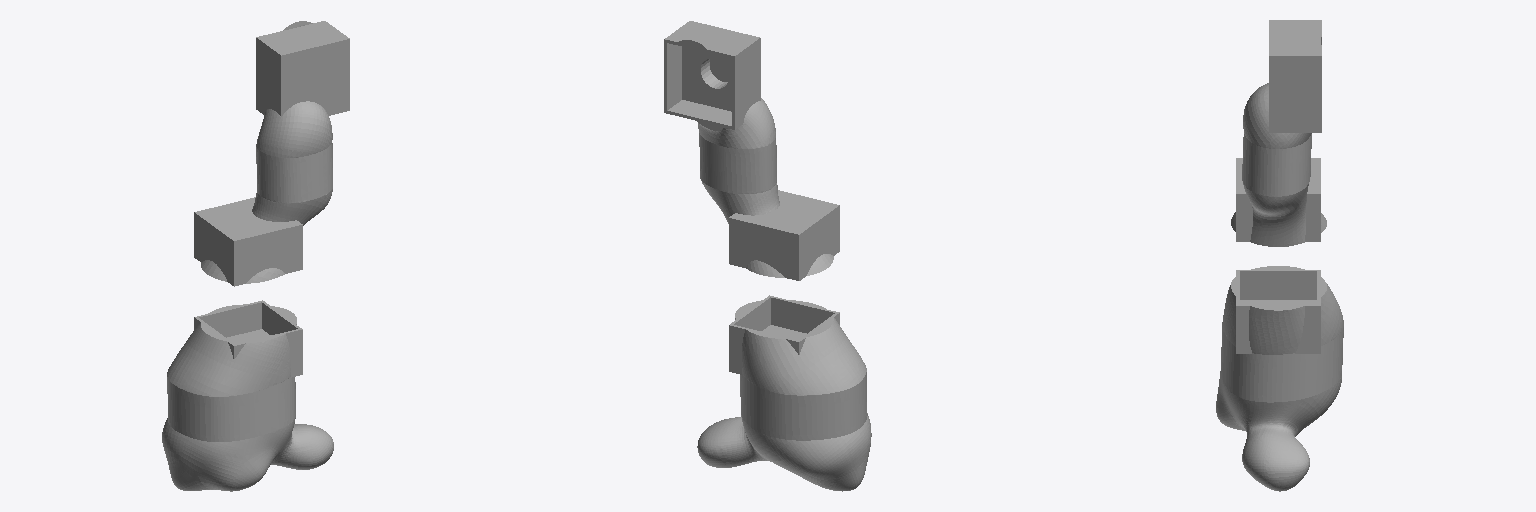
robot.urdf — FrogBot5_top-FrogBot5-y-6_bottom-FrogBot5-y-6:
<?xml version="1.0" ?>
<robot name="FrogBot5_top-FrogBot5-y-6_bottom-FrogBot5-y-6">

<material name="pla_5_percent_infill">
  <color rgba="0.700 0.700 0.700 1.000"/>
</material>

<link name="base_link">
  <inertial>
    <origin xyz="0 0 0" rpy="0 0 0"/>
    <mass value="1.4805118043364613"/>
    <inertia ixx="0.00519778244400068" iyy="0.011185972187213383" izz="0.012581059264896973" ixy="-0.0002102027550041139" iyz="-1.09064860282594e-05" ixz="-0.0008439426245005397"/>
  </inertial>
  <visual>
    <origin xyz="0 0 0" rpy="0 0 0"/>
    <geometry>
      <mesh filename="simple_meshes/base_link.stl" scale="0.001 0.001 0.001"/>
    </geometry>
    <material name="pla_5_percent_infill"/>
  </visual>
  <collision>
    <origin xyz="0 0 0" rpy="0 0 0"/>
    <geometry>
      <mesh filename="simple_meshes/base_link.stl" scale="0.001 0.001 0.001"/>
    </geometry>
  </collision>
</link>

<link name="body_1_0_1">
  <inertial>
    <origin xyz="-0.05492 -0.106321 -0.011198" rpy="0 0 0"/>
    <mass value="0.03884983260969606"/>
    <inertia ixx="4.170578301745194e-05" iyy="4.4962683225508566e-05" izz="1.2590825205717926e-05" ixy="-1.0565215714266035e-07" iyz="-2.019539742988309e-06" ixz="-1.2107108073044245e-06"/>
  </inertial>
  <visual>
    <origin xyz="-0.05492 -0.106321 -0.011198" rpy="0 0 0"/>
    <geometry>
      <mesh filename="simple_meshes/body_1_0_1.stl" scale="0.001 0.001 0.001"/>
    </geometry>
    <material name="pla_5_percent_infill"/>
  </visual>
  <collision>
    <origin xyz="-0.05492 -0.106321 -0.011198" rpy="0 0 0"/>
    <geometry>
      <mesh filename="simple_meshes/body_1_0_1.stl" scale="0.001 0.001 0.001"/>
    </geometry>
  </collision>
</link>

<link name="body_1_1_1">
  <inertial>
    <origin xyz="0.058377 -0.106321 -0.025493" rpy="0 0 0"/>
    <mass value="0.0640724490179146"/>
    <inertia ixx="7.964909327203029e-05" iyy="0.00010194311954723589" izz="4.02268873717351e-05" ixy="-2.1620908907479417e-06" iyz="-1.306376854506928e-06" ixz="-2.9478070887050846e-05"/>
  </inertial>
  <visual>
    <origin xyz="0.058377 -0.106321 -0.025493" rpy="0 0 0"/>
    <geometry>
      <mesh filename="simple_meshes/body_1_1_1.stl" scale="0.001 0.001 0.001"/>
    </geometry>
    <material name="pla_5_percent_infill"/>
  </visual>
  <collision>
    <origin xyz="0.058377 -0.106321 -0.025493" rpy="0 0 0"/>
    <geometry>
      <mesh filename="simple_meshes/body_1_1_1.stl" scale="0.001 0.001 0.001"/>
    </geometry>
  </collision>
</link>

<link name="body_1_2_1">
  <inertial>
    <origin xyz="-0.053934 0.106321 -0.032331" rpy="0 0 0"/>
    <mass value="0.05563842877598316"/>
    <inertia ixx="7.497002196064396e-05" iyy="8.095586345666046e-05" izz="1.909925730497514e-05" ixy="1.8461053509044416e-07" iyz="-1.5884370912450465e-07" ixz="8.151191103132949e-06"/>
  </inertial>
  <visual>
    <origin xyz="-0.053934 0.106321 -0.032331" rpy="0 0 0"/>
    <geometry>
      <mesh filename="simple_meshes/body_1_2_1.stl" scale="0.001 0.001 0.001"/>
    </geometry>
    <material name="pla_5_percent_infill"/>
  </visual>
  <collision>
    <origin xyz="-0.053934 0.106321 -0.032331" rpy="0 0 0"/>
    <geometry>
      <mesh filename="simple_meshes/body_1_2_1.stl" scale="0.001 0.001 0.001"/>
    </geometry>
  </collision>
</link>

<link name="body_1_3_1">
  <inertial>
    <origin xyz="0.057483 0.106321 -0.032919" rpy="0 0 0"/>
    <mass value="0.06200796672995031"/>
    <inertia ixx="8.203586392532521e-05" iyy="9.934747130677514e-05" izz="3.2338545722542704e-05" ixy="-5.828327555165106e-07" iyz="-2.3936281243236066e-06" ixz="-2.5396781439897788e-05"/>
  </inertial>
  <visual>
    <origin xyz="0.057483 0.106321 -0.032919" rpy="0 0 0"/>
    <geometry>
      <mesh filename="simple_meshes/body_1_3_1.stl" scale="0.001 0.001 0.001"/>
    </geometry>
    <material name="pla_5_percent_infill"/>
  </visual>
  <collision>
    <origin xyz="0.057483 0.106321 -0.032919" rpy="0 0 0"/>
    <geometry>
      <mesh filename="simple_meshes/body_1_3_1.stl" scale="0.001 0.001 0.001"/>
    </geometry>
  </collision>
</link>

<link name="body_2_0_1">
  <inertial>
    <origin xyz="-0.051784 -0.143449 0.100454" rpy="0 0 0"/>
    <mass value="0.08983033453324192"/>
    <inertia ixx="0.0001129028371719739" iyy="0.00012016448528999598" izz="9.669178012234768e-05" ixy="-4.565669640618016e-06" iyz="4.704396012114066e-06" ixz="-3.4372645983795714e-06"/>
  </inertial>
  <visual>
    <origin xyz="-0.051784 -0.143449 0.100454" rpy="0 0 0"/>
    <geometry>
      <mesh filename="simple_meshes/body_2_0_1.stl" scale="0.001 0.001 0.001"/>
    </geometry>
    <material name="pla_5_percent_infill"/>
  </visual>
  <collision>
    <origin xyz="-0.051784 -0.143449 0.100454" rpy="0 0 0"/>
    <geometry>
      <mesh filename="simple_meshes/body_2_0_1.stl" scale="0.001 0.001 0.001"/>
    </geometry>
  </collision>
</link>

<link name="body_2_1_1">
  <inertial>
    <origin xyz="0.108798 -0.147527 0.100454" rpy="0 0 0"/>
    <mass value="0.12520642099837706"/>
    <inertia ixx="9.813211103022572e-05" iyy="0.00012209439671824213" izz="9.724009692442786e-05" ixy="-2.3610485365048797e-06" iyz="3.873623748039054e-07" ixz="-8.361973607394491e-07"/>
  </inertial>
  <visual>
    <origin xyz="0.108798 -0.147527 0.100454" rpy="0 0 0"/>
    <geometry>
      <mesh filename="simple_meshes/body_2_1_1.stl" scale="0.001 0.001 0.001"/>
    </geometry>
    <material name="pla_5_percent_infill"/>
  </visual>
  <collision>
    <origin xyz="0.108798 -0.147527 0.100454" rpy="0 0 0"/>
    <geometry>
      <mesh filename="simple_meshes/body_2_1_1.stl" scale="0.001 0.001 0.001"/>
    </geometry>
  </collision>
</link>

<link name="body_2_2_1">
  <inertial>
    <origin xyz="-0.065031 0.147225 0.100454" rpy="0 0 0"/>
    <mass value="0.08944098053403188"/>
    <inertia ixx="0.00011087282553854522" iyy="0.00010926394341471794" izz="8.960666541283323e-05" ixy="6.04525247909968e-06" iyz="-3.7621290671315845e-06" ixz="-6.3944899855697575e-06"/>
  </inertial>
  <visual>
    <origin xyz="-0.065031 0.147225 0.100454" rpy="0 0 0"/>
    <geometry>
      <mesh filename="simple_meshes/body_2_2_1.stl" scale="0.001 0.001 0.001"/>
    </geometry>
    <material name="pla_5_percent_infill"/>
  </visual>
  <collision>
    <origin xyz="-0.065031 0.147225 0.100454" rpy="0 0 0"/>
    <geometry>
      <mesh filename="simple_meshes/body_2_2_1.stl" scale="0.001 0.001 0.001"/>
    </geometry>
  </collision>
</link>

<link name="body_2_3_1">
  <inertial>
    <origin xyz="0.101339 0.151086 0.100454" rpy="0 0 0"/>
    <mass value="0.13516619575576871"/>
    <inertia ixx="0.00012081311612868045" iyy="0.00015451642748556295" izz="0.0001090692719264751" ixy="1.1902656581294808e-06" iyz="-4.996255348883698e-06" ixz="6.998411627305405e-06"/>
  </inertial>
  <visual>
    <origin xyz="0.101339 0.151086 0.100454" rpy="0 0 0"/>
    <geometry>
      <mesh filename="simple_meshes/body_2_3_1.stl" scale="0.001 0.001 0.001"/>
    </geometry>
    <material name="pla_5_percent_infill"/>
  </visual>
  <collision>
    <origin xyz="0.101339 0.151086 0.100454" rpy="0 0 0"/>
    <geometry>
      <mesh filename="simple_meshes/body_2_3_1.stl" scale="0.001 0.001 0.001"/>
    </geometry>
  </collision>
</link>

<joint name="joint_1_0" type="revolute">
  <origin xyz="0.05492 0.106321 0.011198" rpy="0 0 0"/>
  <parent link="base_link"/>
  <child link="body_1_0_1"/>
  <axis xyz="0.0 0.0 -1.0"/>
  <limit upper="1.2" lower="-1.2" effort="3.8" velocity="5.4"/>
</joint>
<transmission name="joint_1_0_tran">
  <type>transmission_interface/SimpleTransmission</type>
  <joint name="joint_1_0">
    <hardwareInterface>PositionJointInterface</hardwareInterface>
  </joint>
  <actuator name="joint_1_0_actr">
    <hardwareInterface>PositionJointInterface</hardwareInterface>
    <mechanicalReduction>1</mechanicalReduction>
  </actuator>
</transmission>

<joint name="joint_1_1" type="revolute">
  <origin xyz="-0.058377 0.106321 0.025493" rpy="0 0 0"/>
  <parent link="base_link"/>
  <child link="body_1_1_1"/>
  <axis xyz="0.0 0.0 -1.0"/>
  <limit upper="1.2" lower="-1.2" effort="3.8" velocity="5.4"/>
</joint>
<transmission name="joint_1_1_tran">
  <type>transmission_interface/SimpleTransmission</type>
  <joint name="joint_1_1">
    <hardwareInterface>PositionJointInterface</hardwareInterface>
  </joint>
  <actuator name="joint_1_1_actr">
    <hardwareInterface>PositionJointInterface</hardwareInterface>
    <mechanicalReduction>1</mechanicalReduction>
  </actuator>
</transmission>

<joint name="joint_1_2" type="revolute">
  <origin xyz="0.053934 -0.106321 0.032331" rpy="0 0 0"/>
  <parent link="base_link"/>
  <child link="body_1_2_1"/>
  <axis xyz="0.0 0.0 -1.0"/>
  <limit upper="1.2" lower="-1.2" effort="3.8" velocity="5.4"/>
</joint>
<transmission name="joint_1_2_tran">
  <type>transmission_interface/SimpleTransmission</type>
  <joint name="joint_1_2">
    <hardwareInterface>PositionJointInterface</hardwareInterface>
  </joint>
  <actuator name="joint_1_2_actr">
    <hardwareInterface>PositionJointInterface</hardwareInterface>
    <mechanicalReduction>1</mechanicalReduction>
  </actuator>
</transmission>

<joint name="joint_1_3" type="revolute">
  <origin xyz="-0.057483 -0.106321 0.032919" rpy="0 0 0"/>
  <parent link="base_link"/>
  <child link="body_1_3_1"/>
  <axis xyz="0.0 0.0 -1.0"/>
  <limit upper="1.2" lower="-1.2" effort="3.8" velocity="5.4"/>
</joint>
<transmission name="joint_1_3_tran">
  <type>transmission_interface/SimpleTransmission</type>
  <joint name="joint_1_3">
    <hardwareInterface>PositionJointInterface</hardwareInterface>
  </joint>
  <actuator name="joint_1_3_actr">
    <hardwareInterface>PositionJointInterface</hardwareInterface>
    <mechanicalReduction>1</mechanicalReduction>
  </actuator>
</transmission>

<joint name="joint_2_0" type="revolute">
  <origin xyz="-0.003136 0.037128 -0.111652" rpy="0 0 0"/>
  <parent link="body_1_0_1"/>
  <child link="body_2_0_1"/>
  <axis xyz="0.0 1.0 0.0"/>
  <limit upper="1.2" lower="-1.2" effort="3.8" velocity="5.4"/>
</joint>
<transmission name="joint_2_0_tran">
  <type>transmission_interface/SimpleTransmission</type>
  <joint name="joint_2_0">
    <hardwareInterface>PositionJointInterface</hardwareInterface>
  </joint>
  <actuator name="joint_2_0_actr">
    <hardwareInterface>PositionJointInterface</hardwareInterface>
    <mechanicalReduction>1</mechanicalReduction>
  </actuator>
</transmission>

<joint name="joint_2_1" type="revolute">
  <origin xyz="-0.050421 0.041206 -0.125947" rpy="0 0 0"/>
  <parent link="body_1_1_1"/>
  <child link="body_2_1_1"/>
  <axis xyz="0.0 1.0 0.0"/>
  <limit upper="1.2" lower="-1.2" effort="3.8" velocity="5.4"/>
</joint>
<transmission name="joint_2_1_tran">
  <type>transmission_interface/SimpleTransmission</type>
  <joint name="joint_2_1">
    <hardwareInterface>PositionJointInterface</hardwareInterface>
  </joint>
  <actuator name="joint_2_1_actr">
    <hardwareInterface>PositionJointInterface</hardwareInterface>
    <mechanicalReduction>1</mechanicalReduction>
  </actuator>
</transmission>

<joint name="joint_2_2" type="revolute">
  <origin xyz="0.011097 -0.040904 -0.132785" rpy="0 0 0"/>
  <parent link="body_1_2_1"/>
  <child link="body_2_2_1"/>
  <axis xyz="0.0 1.0 0.0"/>
  <limit upper="1.2" lower="-1.2" effort="3.8" velocity="5.4"/>
</joint>
<transmission name="joint_2_2_tran">
  <type>transmission_interface/SimpleTransmission</type>
  <joint name="joint_2_2">
    <hardwareInterface>PositionJointInterface</hardwareInterface>
  </joint>
  <actuator name="joint_2_2_actr">
    <hardwareInterface>PositionJointInterface</hardwareInterface>
    <mechanicalReduction>1</mechanicalReduction>
  </actuator>
</transmission>

<joint name="joint_2_3" type="revolute">
  <origin xyz="-0.043856 -0.044765 -0.133373" rpy="0 0 0"/>
  <parent link="body_1_3_1"/>
  <child link="body_2_3_1"/>
  <axis xyz="0.0 1.0 0.0"/>
  <limit upper="1.2" lower="-1.2" effort="3.8" velocity="5.4"/>
</joint>
<transmission name="joint_2_3_tran">
  <type>transmission_interface/SimpleTransmission</type>
  <joint name="joint_2_3">
    <hardwareInterface>PositionJointInterface</hardwareInterface>
  </joint>
  <actuator name="joint_2_3_actr">
    <hardwareInterface>PositionJointInterface</hardwareInterface>
    <mechanicalReduction>1</mechanicalReduction>
  </actuator>
</transmission>

</robot>

--- What the picture shows (computed from the rendered views, not written in the file) ---
Views: 3 orthographic renders of the robot side by side, from view 1: azimuth 30°, elevation 25°; view 2: azimuth 150°, elevation 25°; view 3: azimuth 270°, elevation 25°.
Model FrogBot5_top-FrogBot5-y-6_bottom-FrogBot5-y-6 with 9 links and 8 joints (8 revolute), rooted at base_link, posed every joint at zero.
Visible links, largest first — view 1: body_2_3_1, body_1_3_1; view 2: body_2_3_1, body_1_3_1; view 3: body_2_3_1, body_1_3_1.
Boxes of the visible links, x1,y1,x2,y2 form: body_2_3_1: [162, 300, 333, 491]; body_1_3_1: [194, 21, 349, 286]; body_2_3_1: [697, 295, 871, 491]; body_1_3_1: [664, 21, 839, 280]; body_2_3_1: [1216, 266, 1343, 491]; body_1_3_1: [1231, 20, 1326, 246].
Bounding box of the posed robot: 0.1229 × 0.0731 × 0.2874 m (x, y, z).
Meshes: 9 distinct files referenced, 2 mesh visuals loaded (2 binary STL); not drawn: 7 (reference not matched to a file when rendering).